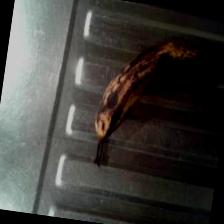Banana Rotten: (102, 10, 208, 159)
